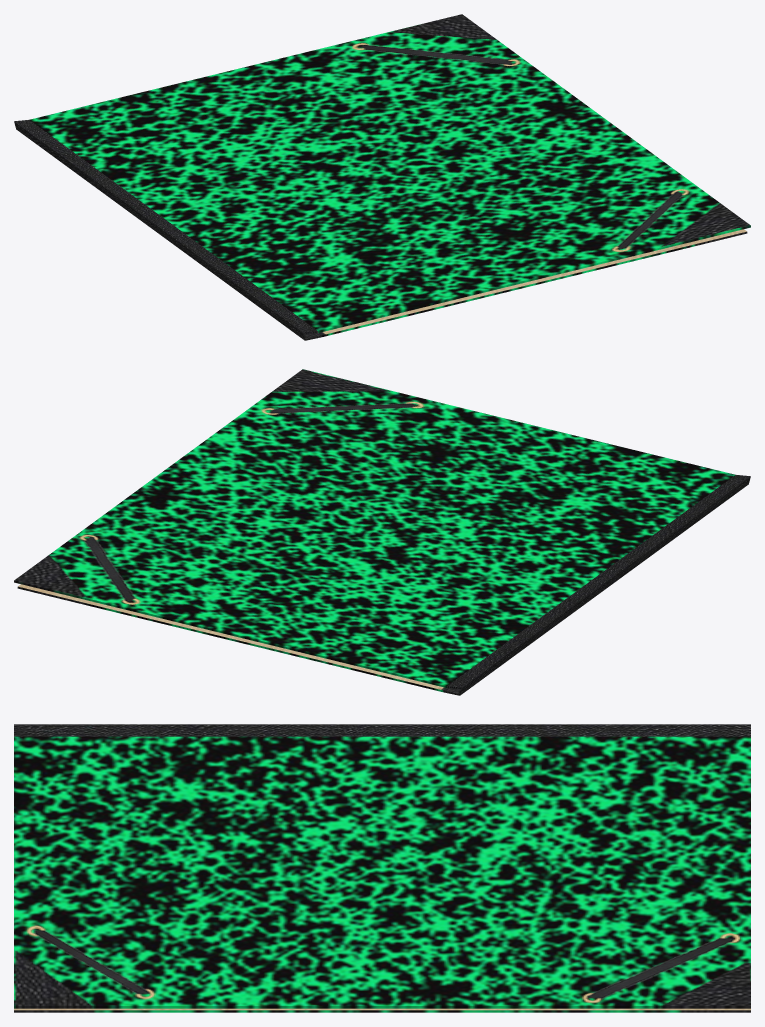
File: carton a dessin fermé.FBX
3 renders of one model, top to bottom at view 1: azimuth 30°, elevation 25°; view 2: azimuth 150°, elevation 25°; view 3: azimuth 270°, elevation 25°, orthographic. The views are drawn at different scales.
Parts seen in each view (by area): view 1: Plan021; view 2: Plan021; view 3: Plan021.
Part boxes in pixels (<box>): Plan021: <box>14,14,750,340</box>; Plan021: <box>14,369,750,695</box>; Plan021: <box>14,724,750,1012</box>.
Bounding box in the file's own units: 243 × 4.81 × 271.
